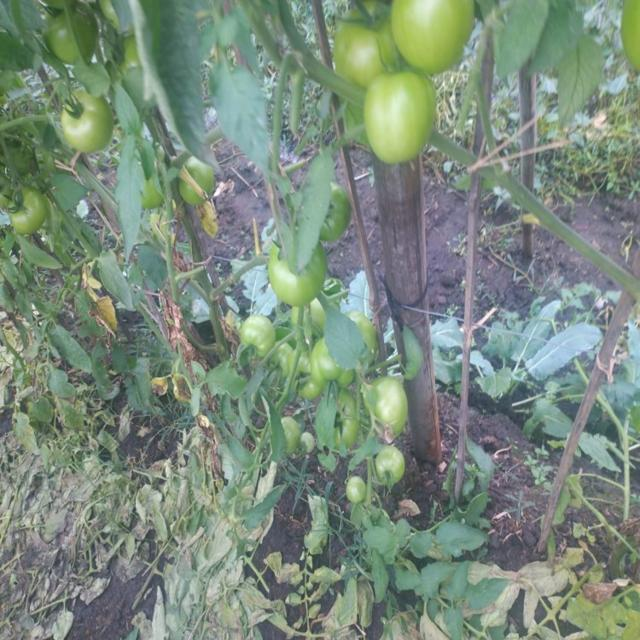tomato: (394, 2, 480, 72), (365, 74, 435, 159), (334, 2, 392, 82), (271, 244, 326, 306), (45, 10, 103, 65), (62, 91, 112, 152), (365, 381, 412, 437), (5, 182, 47, 242), (311, 337, 348, 390), (324, 188, 355, 240), (182, 160, 219, 203), (618, 5, 640, 73), (294, 367, 326, 408), (348, 309, 373, 359), (244, 316, 277, 353), (379, 445, 410, 483), (286, 307, 322, 339), (337, 396, 355, 457), (277, 420, 303, 461), (115, 37, 143, 74), (143, 176, 168, 206), (301, 424, 322, 452), (273, 347, 293, 373), (350, 477, 363, 500)
